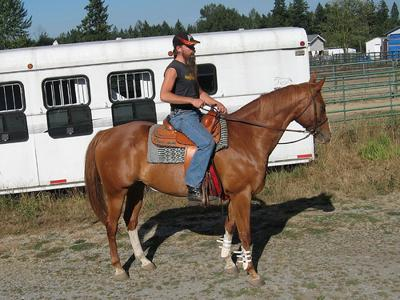person: (159, 30, 226, 202)
